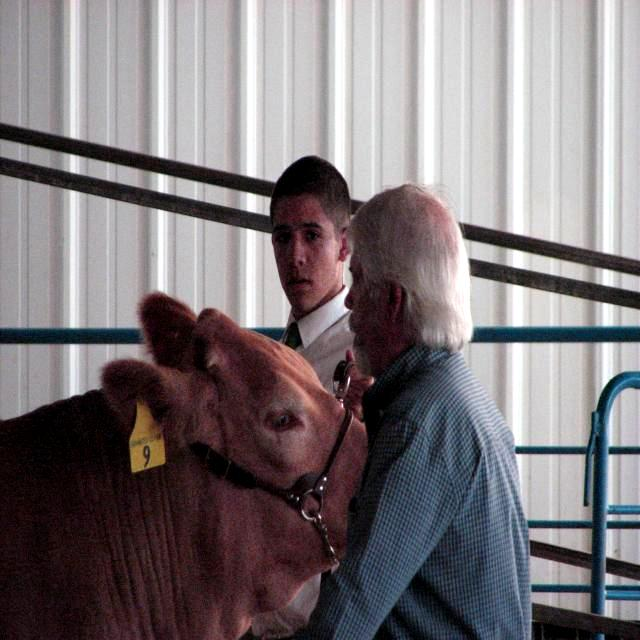COW: (0, 293, 366, 638)
